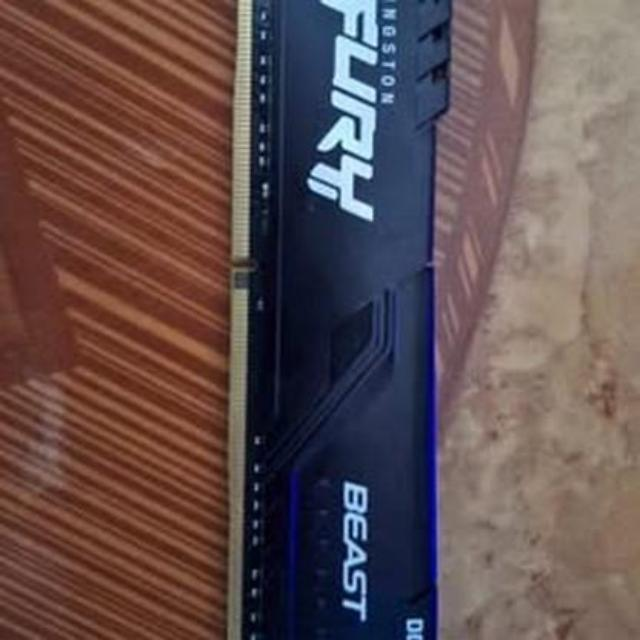RAM: (199, 0, 461, 640)
